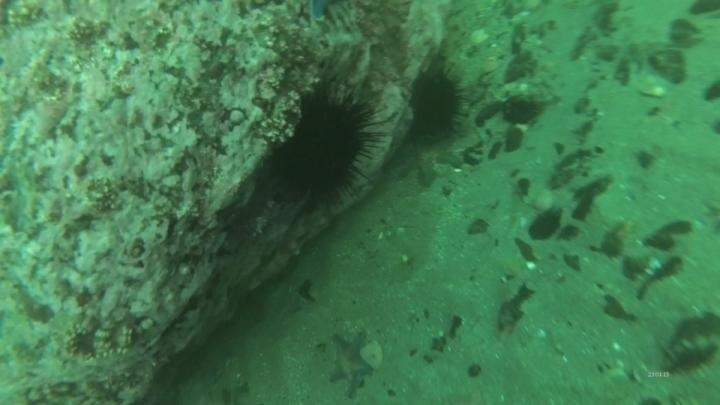echinus: (265, 83, 388, 212), (405, 64, 468, 145)
starfish: (323, 329, 377, 387)
